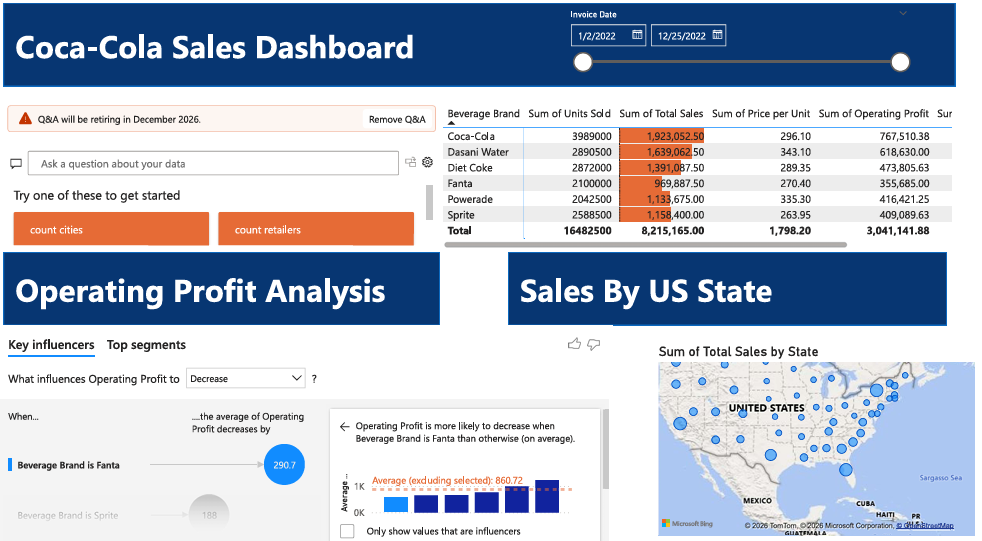

This screenshot's page, from the dashboard's own definition file:
{"tool":"powerbi","page":{"name":"Page 1","canvas":[1280,720],"ordinal":0},"visuals":[{"type":"shape","box":[11,14.2,1212.8,105.5],"z":0},{"type":"shape","box":[11,330.8,556,92.9],"z":1000},{"type":"shape","box":[653.7,330.8,559.2,92.9],"z":2000},{"type":"qnaVisual","box":[11,138.6,556,192.2],"z":3000},{"type":"keyDriversVisual","fields":{"Target":["Data.Operating Profit"],"ExplainBy":["Data.Beverage Brand"]},"box":[0,423.7,787.5,296.1],"z":4000},{"type":"map","fields":{"Category":["Data.State"],"Size":["Sum(Data.Total Sales)"]},"box":[841.1,447.3,412.7,248.9],"z":5000},{"type":"pivotTable","fields":{"Rows":["Data.Beverage Brand"],"Values":["Sum(Data.Units Sold)","Sum(Data.Total Sales)","Sum(Data.Price per Unit)","Sum(Data.Operating Profit)","Sum(Data.Operating Margin)"]},"box":[567,139,657,192],"z":6000},{"type":"slicer","fields":{"Values":["Data.Invoice Date"]},"box":[720.5,17.5,454.1,99],"z":7000}]}

Visuals, with their boxes in screenshot pixels (x1, y1, x2, y2):
shape: x1=8 y1=3 x2=942 y2=84
shape: x1=8 y1=247 x2=437 y2=319
shape: x1=503 y1=247 x2=934 y2=319
qnaVisual: x1=8 y1=99 x2=437 y2=247
keyDriversVisual - Data.Operating Profit x Data.Beverage Brand: x1=0 y1=319 x2=606 y2=540
map - Data.State x Sum(Data.Total Sales): x1=648 y1=337 x2=965 y2=528
pivotTable - Data.Beverage Brand x Sum(Data.Units Sold): x1=437 y1=99 x2=942 y2=247
slicer - Data.Invoice Date: x1=555 y1=6 x2=904 y2=82
